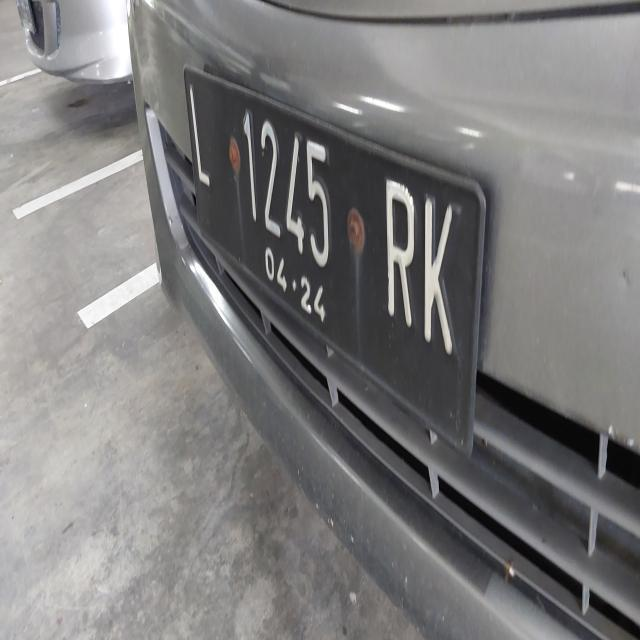1: (232, 97, 266, 240)
2: (251, 108, 290, 249)
4: (274, 116, 312, 276)
5: (296, 121, 338, 277)
K: (416, 174, 464, 388)
L: (177, 73, 218, 204)
R: (372, 166, 425, 360)
